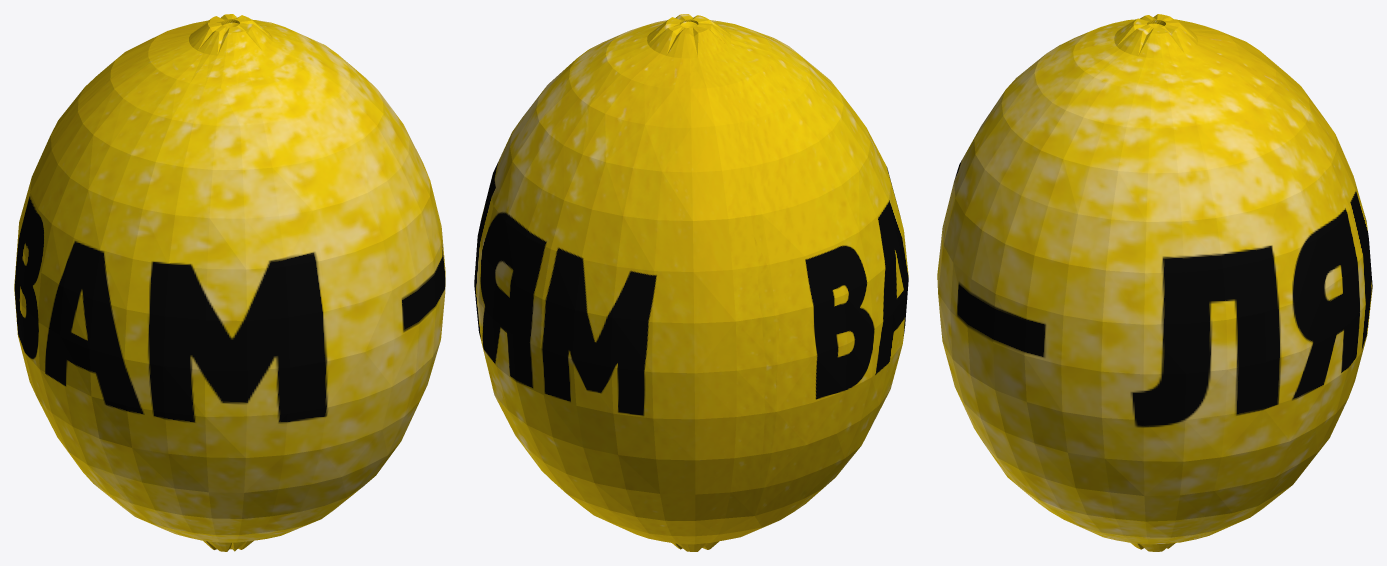
Rendered from lemons_bump.fbx.
3 renders of one model, left to right at view 1: azimuth 30°, elevation 25°; view 2: azimuth 150°, elevation 25°; view 3: azimuth 270°, elevation 25°, orthographic.
Visible parts, largest first — view 1: lemon_lowpoly; view 2: lemon_lowpoly; view 3: lemon_lowpoly.
Part boxes in pixels (<box>): lemon_lowpoly: <box>14,14,445,551</box>; lemon_lowpoly: <box>474,14,908,551</box>; lemon_lowpoly: <box>937,14,1372,551</box>.
Bounding box in the file's own units: 1.99 × 2.65 × 2.
Materials: 1 (1 with a texture image).
